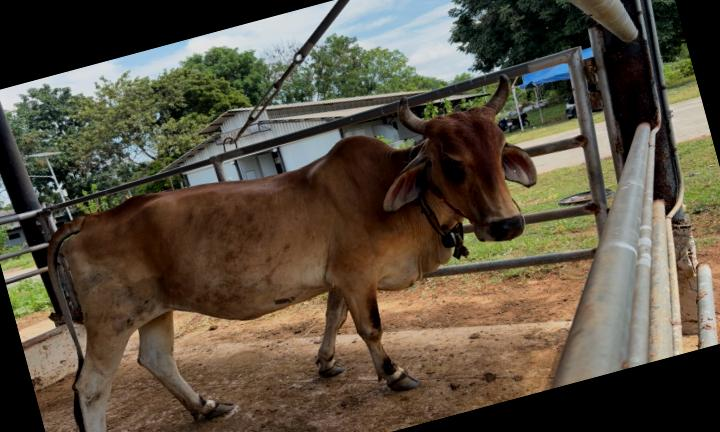Brahman: (48, 75, 536, 432)
